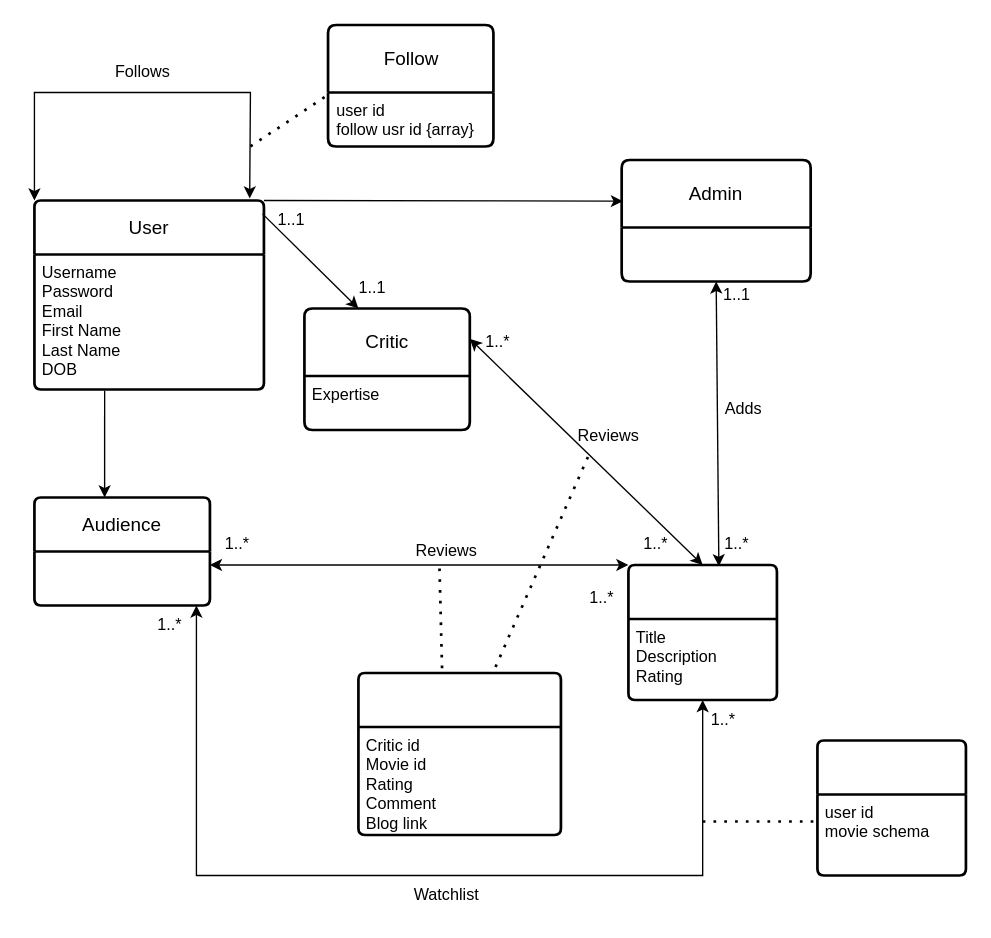
Image size: 991x938. Some labels were removed from this diagram. The box of each missing label's shape, as (x1, y1, x2, y2) in pixels:
Movie: (626, 563, 778, 701)
User Review: (356, 671, 562, 836)
User Watchlist: (815, 738, 967, 876)
